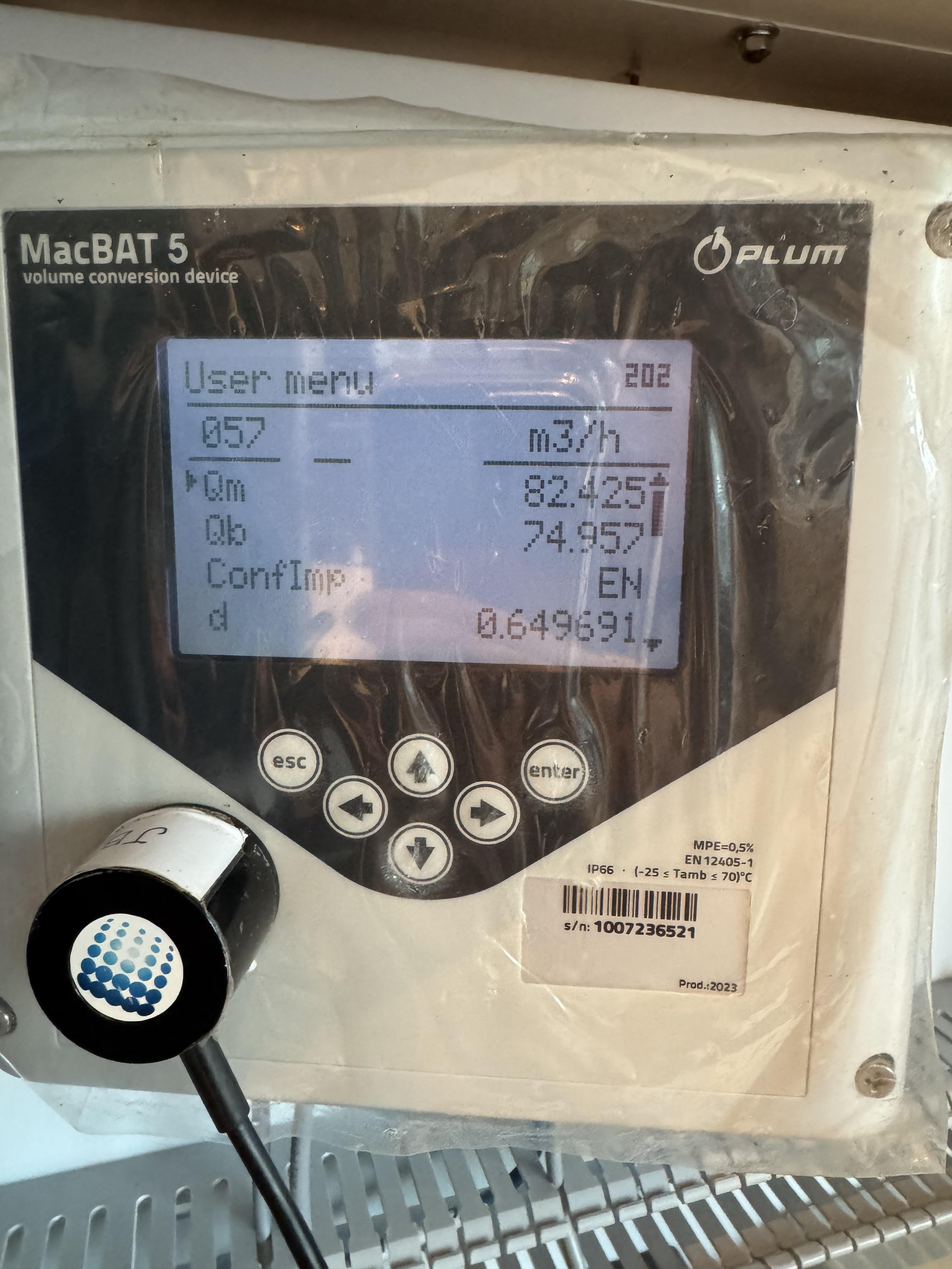digital_screen: (147, 322, 698, 673)
